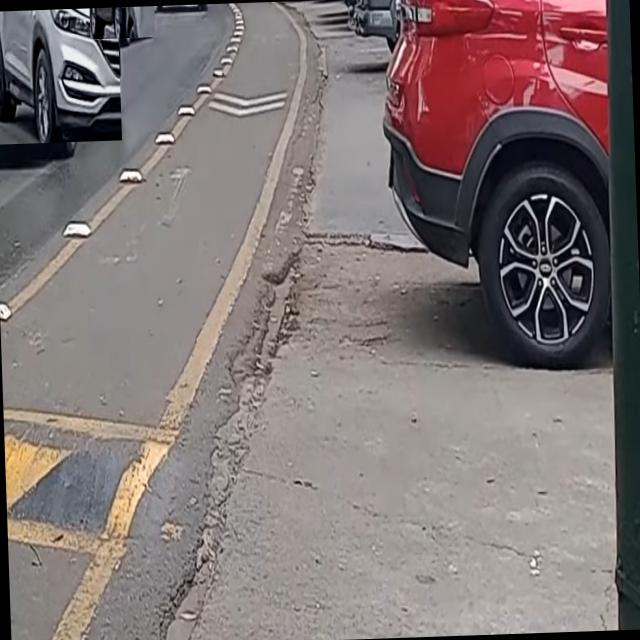car: (0, 7, 122, 144), (89, 6, 155, 38), (158, 4, 208, 12)
